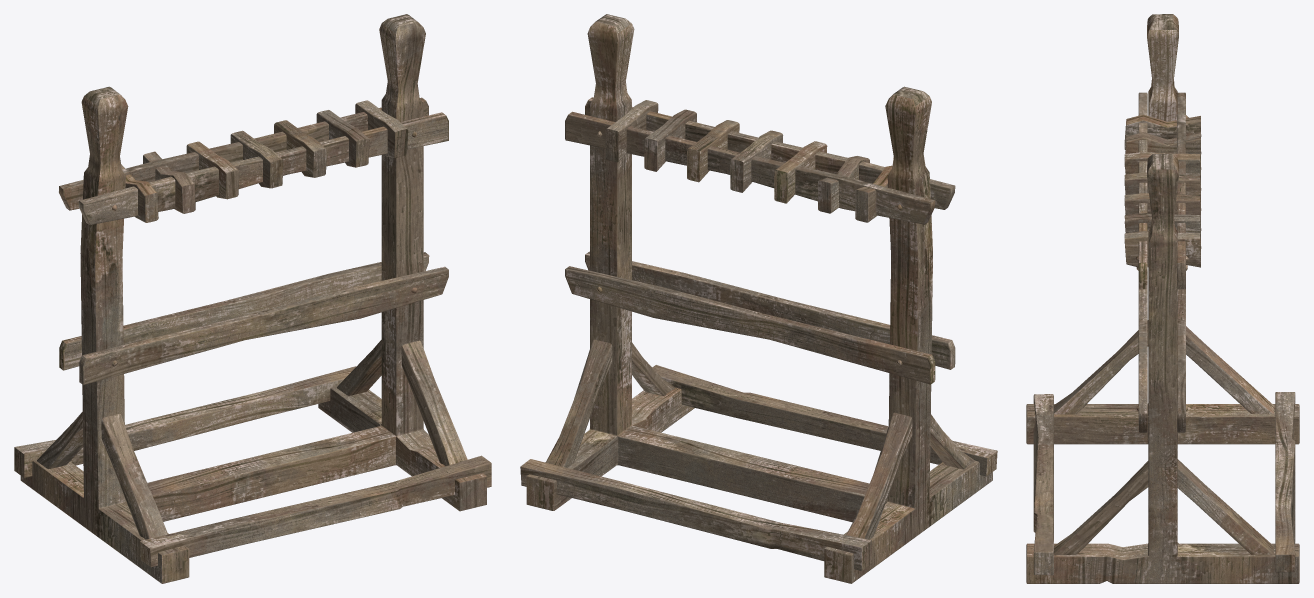
Rendered from SM_WeaponStand.fbx.
3 views of the same model, side by side, from view 1: azimuth 30°, elevation 25°; view 2: azimuth 150°, elevation 25°; view 3: azimuth 270°, elevation 25° (orthographic). The views are drawn at different scales.
Parts seen in each view (by area): view 1: SM_WeaponStand_LOD0; view 2: SM_WeaponStand_LOD0; view 3: SM_WeaponStand_LOD0.
Part boxes in pixels (x1,y1,x2,y2): SM_WeaponStand_LOD0: (14, 14, 491, 583); SM_WeaponStand_LOD0: (520, 14, 997, 583); SM_WeaponStand_LOD0: (1026, 14, 1299, 583).
Size of the model in its own units: 112 by 75.5 by 128.
1 material, 1 textured.
